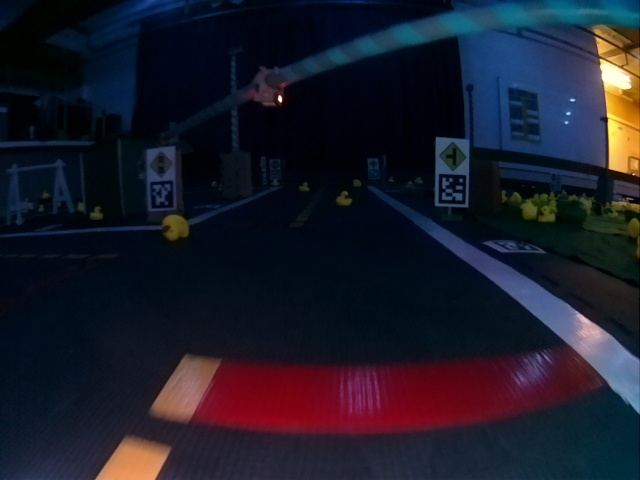Duckie: (161, 215, 188, 239), (336, 190, 351, 206), (540, 206, 554, 222), (524, 205, 537, 219), (91, 206, 101, 219), (299, 182, 309, 190)
Intersection sign: (438, 141, 468, 171)
QR code: (438, 174, 466, 203), (484, 240, 543, 252), (150, 181, 174, 208)
Signal sign: (150, 150, 174, 176)
Traffic light: (254, 68, 284, 105)
